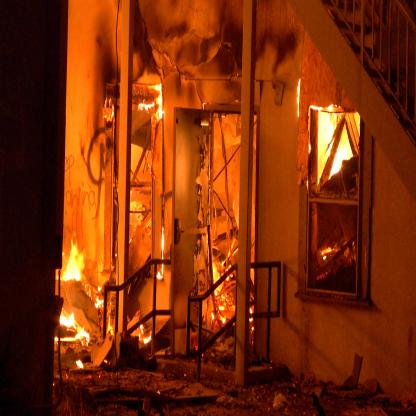fire: (59, 239, 111, 356), (305, 101, 362, 184)
